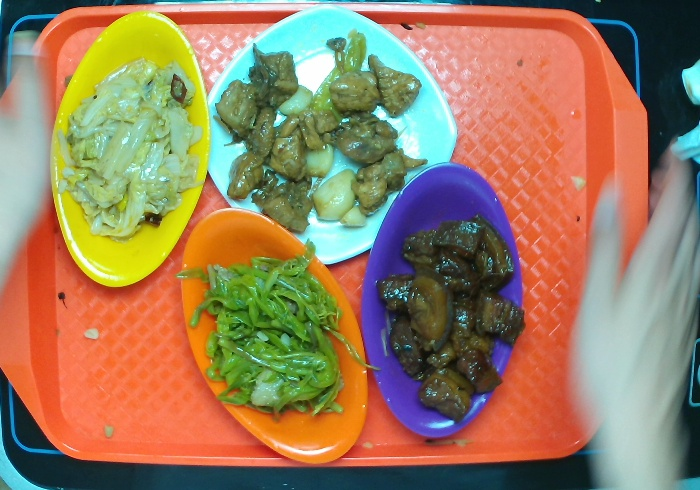RJxy-Fen_Hong_Tuo_Yuan: (360, 161, 526, 442)
RJxy-Huang_Se_Tuo_Yuan: (50, 4, 214, 287)
RJxy-Ju_Huang_Tuo_Yuan: (177, 206, 370, 467)
RJxy-Si_Fang_Die: (202, 1, 458, 261)
